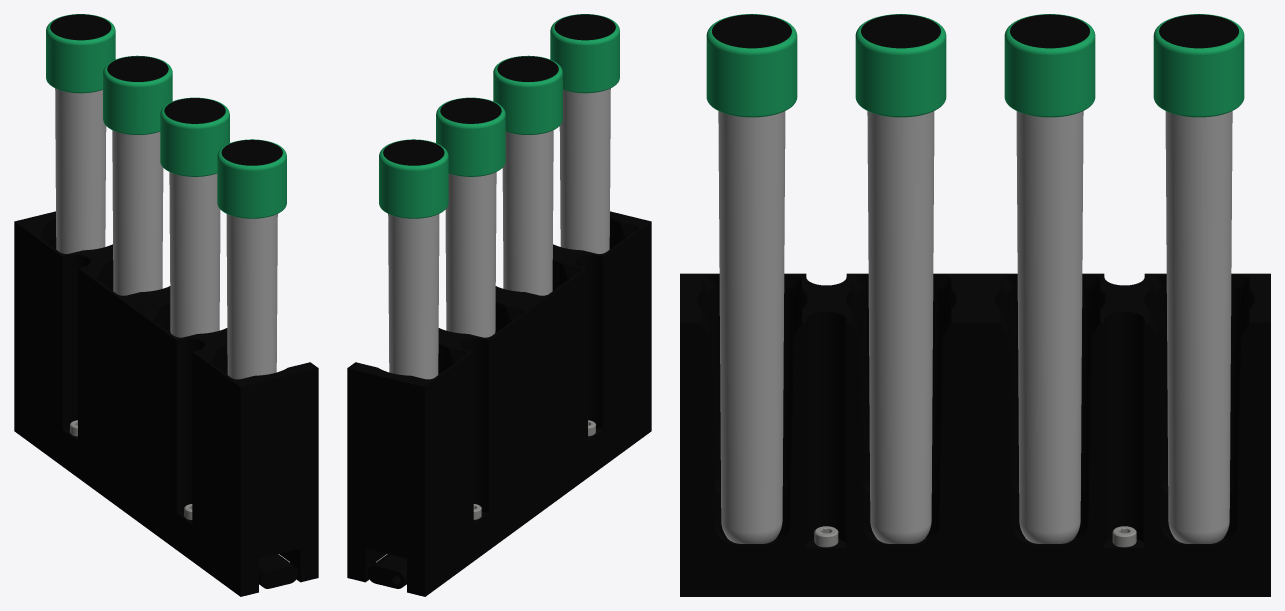
The model's file is 4x_Grnr6ml.gltf.
3 views of the same model, side by side, from view 1: azimuth 30°, elevation 25°; view 2: azimuth 150°, elevation 25°; view 3: azimuth 270°, elevation 25° (orthographic). The views are drawn at different scales.
Visible parts, largest first — view 1: Frame_body__10_0, Frame_body__9_0, Frame_body__8_0; view 2: Frame_body__10_0, Frame_body__9_0, Frame_body__8_0; view 3: Frame_body__10_0, Frame_body__9_0, Frame_body__8_0, Frame_body__9_0_node.
Part boxes in pixels (box(x1,y1,x2,y2)): Frame_body__10_0: box(14, 14, 318, 596); Frame_body__9_0: box(55, 88, 277, 379); Frame_body__8_0: box(46, 14, 286, 218); Frame_body__10_0: box(347, 14, 651, 596); Frame_body__9_0: box(388, 88, 610, 379); Frame_body__8_0: box(379, 14, 619, 218); Frame_body__10_0: box(680, 14, 1270, 596); Frame_body__9_0: box(718, 111, 1232, 543); Frame_body__8_0: box(706, 14, 1244, 117); Frame_body__9_0_node: box(814, 526, 1136, 547).
Bounding box in the file's own units: 22 × 112 × 111.
